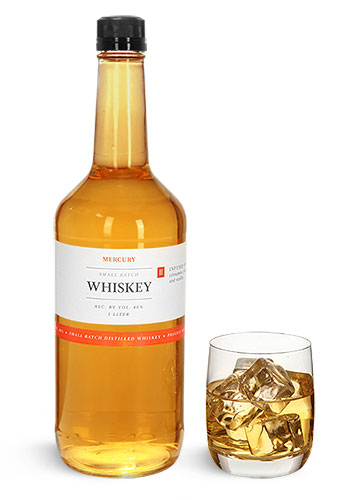bottle: (52, 11, 189, 482)
